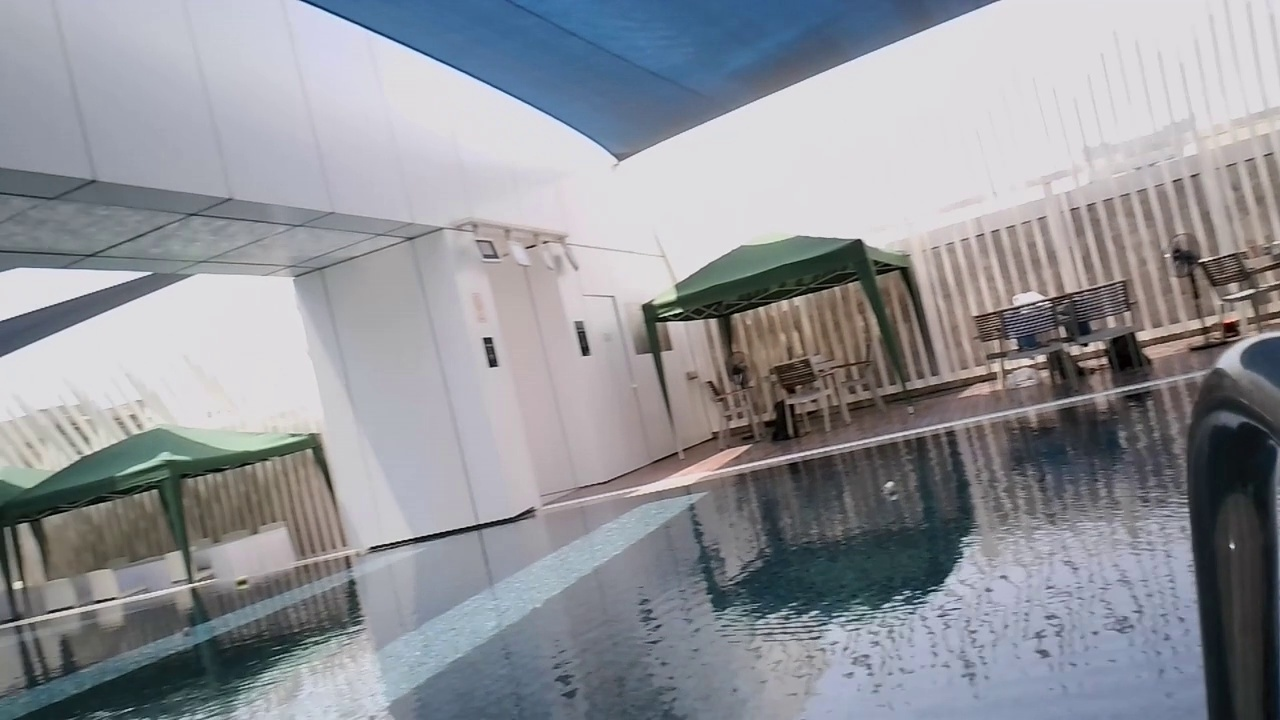debris: (878, 477, 898, 498), (175, 625, 196, 639), (230, 576, 251, 589)
